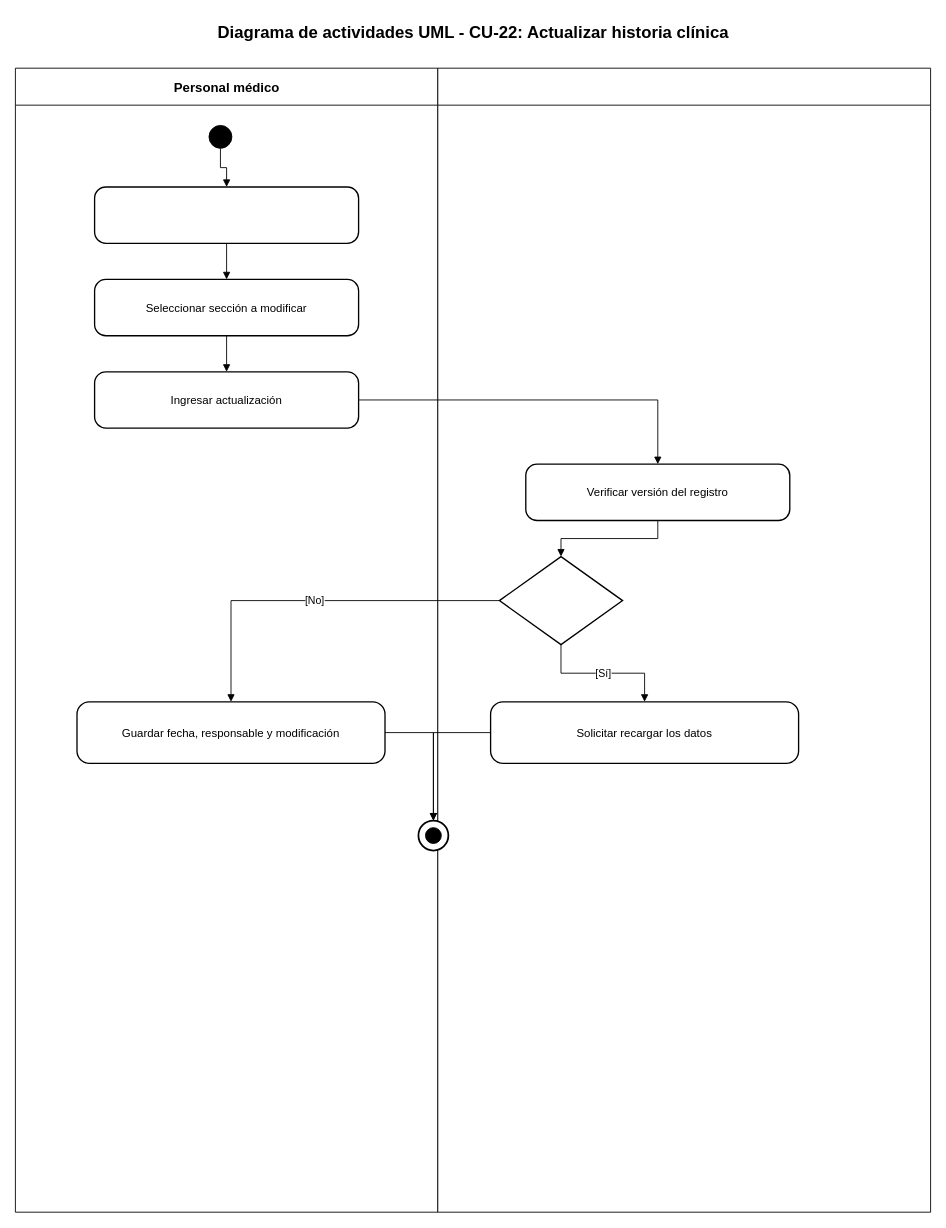
Image size: 946x1228. Some labels were removed from this diagram. Each missing label, with the box of its shape:
Consultar historia clínica: (94, 186, 359, 244)
SICM / Sistema: (437, 67, 931, 1212)
¿Existe conflicto de edición?: (498, 556, 623, 645)
